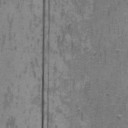surface scratch: (41, 0, 46, 128), (47, 111, 50, 128), (10, 118, 15, 126), (56, 107, 62, 113), (57, 36, 60, 46), (48, 0, 50, 11), (54, 66, 57, 72)
